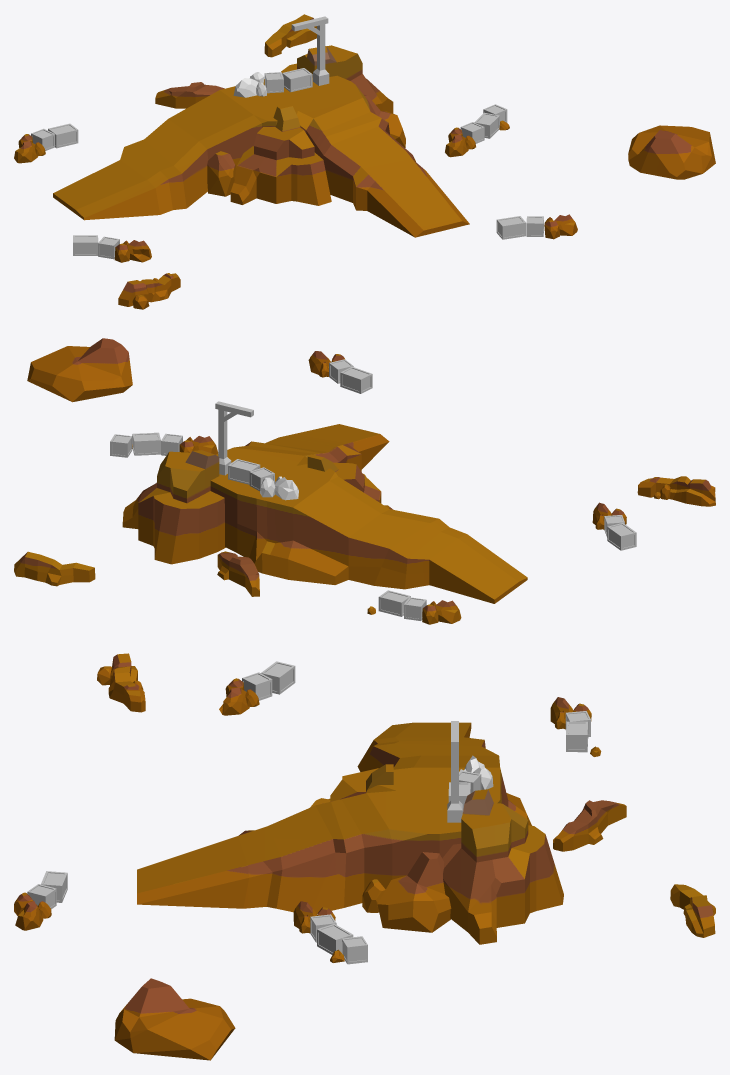
File: platforms_02.fbx
3 views of the same model, one above another, from view 1: azimuth 30°, elevation 25°; view 2: azimuth 150°, elevation 25°; view 3: azimuth 270°, elevation 25° (orthographic). The views are drawn at different scales.
Visible parts, largest first — view 1: Icosphere.022, Icosphere.001, Icosphere.026, Icosphere.002, Icosphere.003, Icosphere.004, Icosphere.006, Icosphere.005, Icosphere.007, Icosphere.008; view 2: Icosphere.022, Icosphere.001, Icosphere.026, Icosphere.002, Icosphere.006, Icosphere.008, Icosphere.005, Icosphere.003, Icosphere.004, Icosphere.007; view 3: Icosphere.022, Icosphere.001, Icosphere.002, Icosphere.004, Icosphere.007, Icosphere.026, Icosphere.003, Icosphere.005, Icosphere.006, Icosphere.008.
Boxes of the visible parts, x1,y1,x2,y2 form: Icosphere.022: (53,45,469,237); Icosphere.001: (628,125,715,179); Icosphere.026: (233,16,329,97); Icosphere.002: (445,104,509,157); Icosphere.003: (496,214,577,239); Icosphere.004: (73,235,151,262); Icosphere.006: (14,123,78,163); Icosphere.005: (118,273,180,309); Icosphere.007: (155,82,224,108); Icosphere.008: (264,14,316,57); Icosphere.022: (122,424,527,603); Icosphere.001: (27,338,132,402); Icosphere.026: (215,401,298,500); Icosphere.002: (110,432,218,457); Icosphere.006: (367,590,461,624); Icosphere.008: (14,551,95,586); Icosphere.005: (637,476,715,506); Icosphere.003: (308,351,372,393); Icosphere.004: (592,502,636,550); Icosphere.007: (217,551,259,596); Icosphere.022: (137,722,563,944); Icosphere.001: (114,978,235,1060); Icosphere.002: (293,901,367,964); Icosphere.004: (219,661,295,715); Icosphere.007: (553,800,626,851); Icosphere.026: (447,721,493,822); Icosphere.003: (14,871,67,930); Icosphere.005: (97,653,145,712); Icosphere.006: (550,697,601,756); Icosphere.008: (670,884,715,937).
Size of the model in its own units: 6282 by 1235 by 4874.
